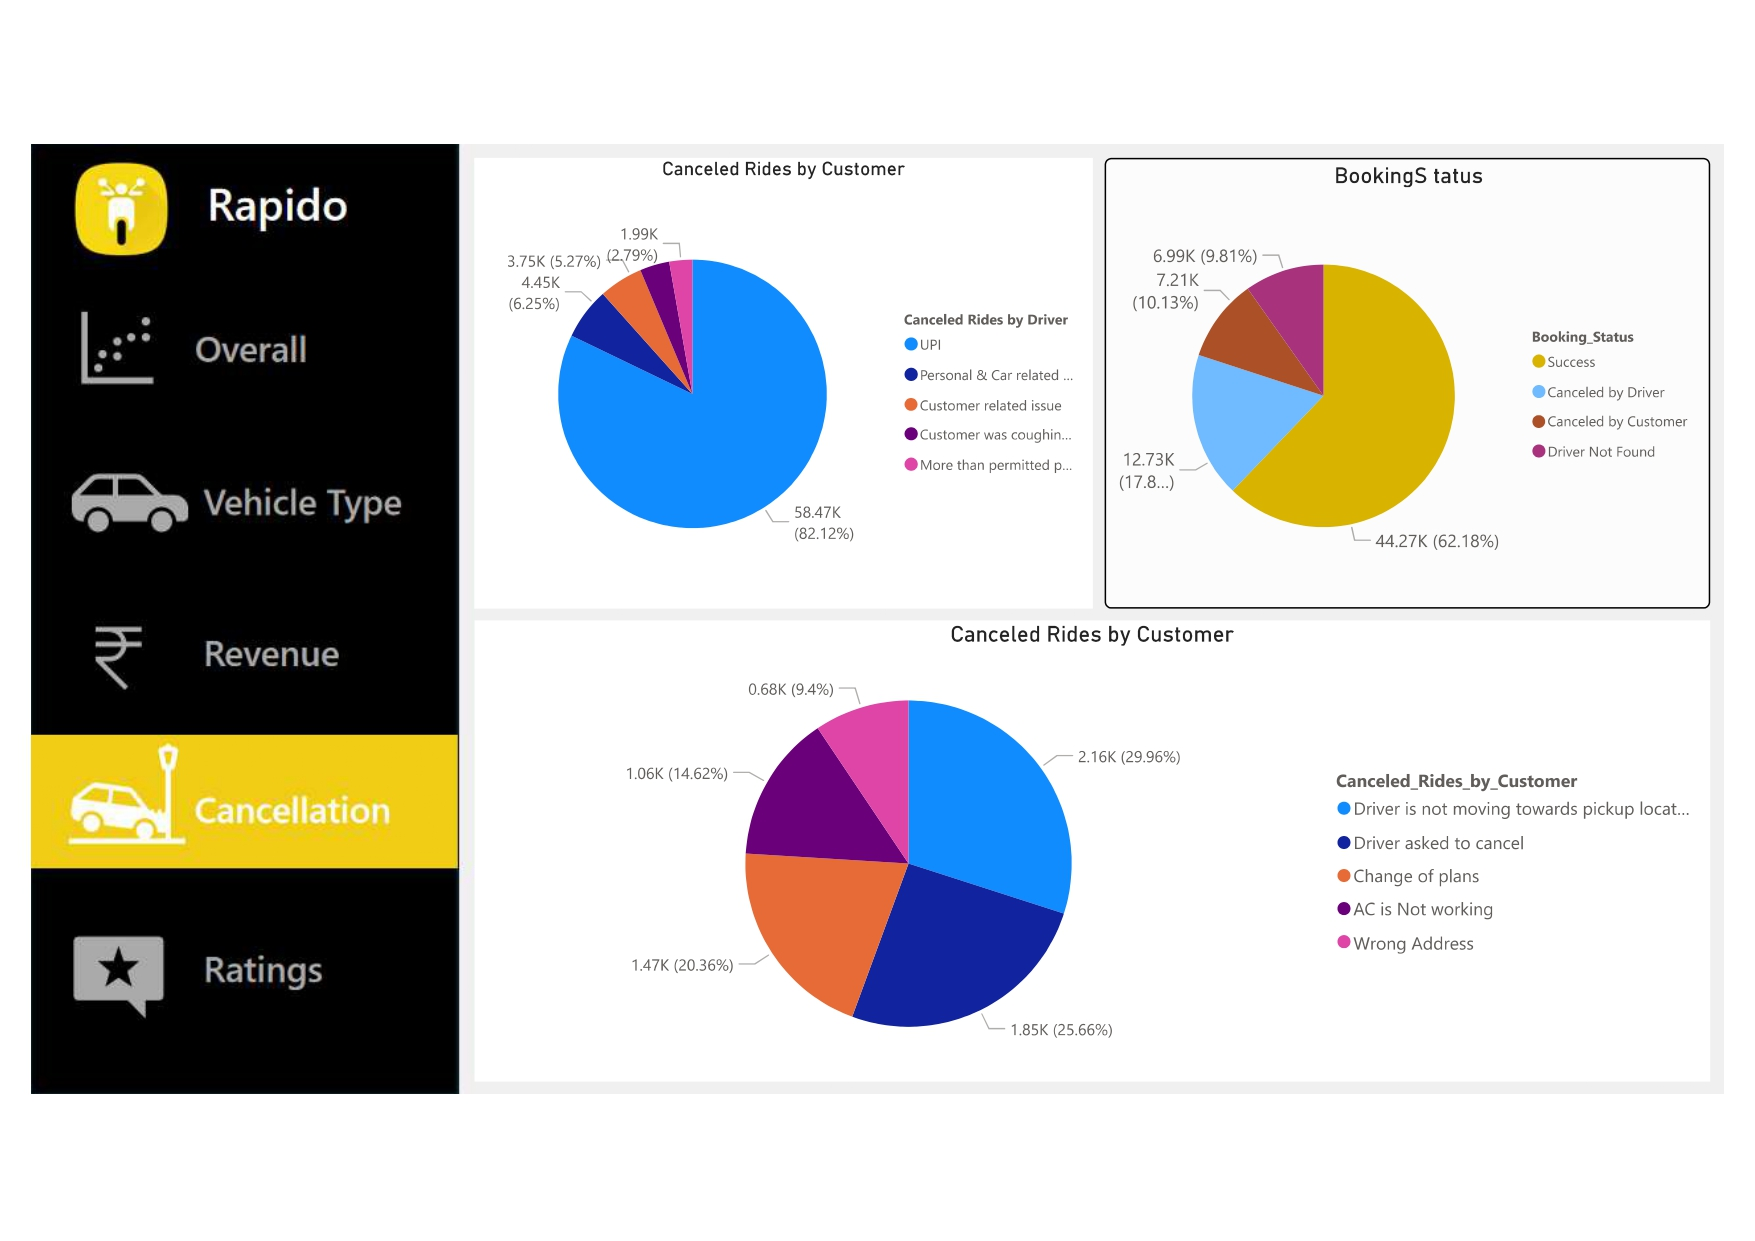

What the dashboard file says about the page in this screenshot:
{"tool":"powerbi","page":{"name":"Cancellation","canvas":[1280,720],"ordinal":3},"visuals":[{"type":"pieChart","title":" BookingS tatus","fields":{"Category":["July.Booking_Status"],"Y":["CountNonNull(July.Booking_ID)"]},"box":[812.1,10.3,457.6,341.1],"z":0},{"type":"pieChart","title":"Canceled Rides by Customer","fields":{"Category":["July.Canceled_Rides_by_Customer","July.Booking_Status"],"Y":["CountNonNull(July.Canceled_Rides_by_Customer)"]},"box":[334.9,359.7,934.8,349.4],"z":1000},{"type":"pieChart","title":" Canceled Rides by Customer","fields":{"Y":["CountNonNull(July.Canceled_Rides_by_Driver)"],"Category":["July.Canceled_Rides_by_Driver"]},"box":[334.9,10.3,467.9,341.1],"z":2000},{"type":"actionButton","box":[0,568.9,324.6,91.7],"z":3000},{"type":"actionButton","box":[0,442.1,324.6,95.8],"z":4000},{"type":"actionButton","box":[0,351.4,324.6,73.2],"z":5000},{"type":"actionButton","box":[0,225.7,324.6,76.3],"z":6000},{"type":"actionButton","box":[0,118.5,324.6,78.3],"z":7000}]}

Visuals, with their boxes on the page's 1280x720 design canvas (x1, y1, x2, y2). These are canvas units, not pixel positions in the 1755x1241 screenshot, which may show the page scaled, cropped or inside an application window:
" BookingS tatus" pieChart: left=812, top=10, right=1270, bottom=351
"Canceled Rides by Customer" pieChart: left=335, top=360, right=1270, bottom=709
" Canceled Rides by Customer" pieChart: left=335, top=10, right=803, bottom=351
actionButton: left=0, top=569, right=325, bottom=661
actionButton: left=0, top=442, right=325, bottom=538
actionButton: left=0, top=351, right=325, bottom=425
actionButton: left=0, top=226, right=325, bottom=302
actionButton: left=0, top=118, right=325, bottom=197
